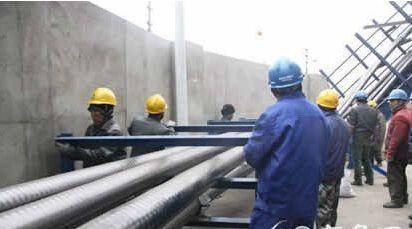blue: (268, 53, 305, 100), (386, 87, 407, 112), (352, 89, 367, 106)
yellow: (88, 86, 117, 123), (144, 92, 168, 121), (315, 88, 339, 116)
